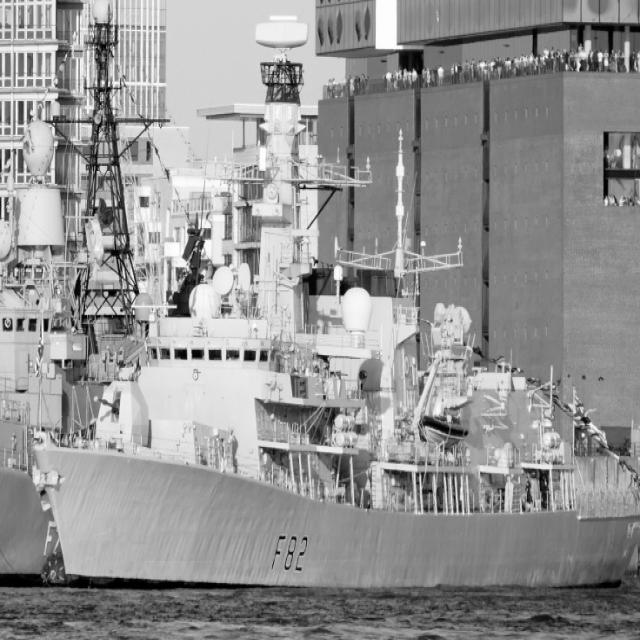Fragata: (26, 80, 640, 598)
